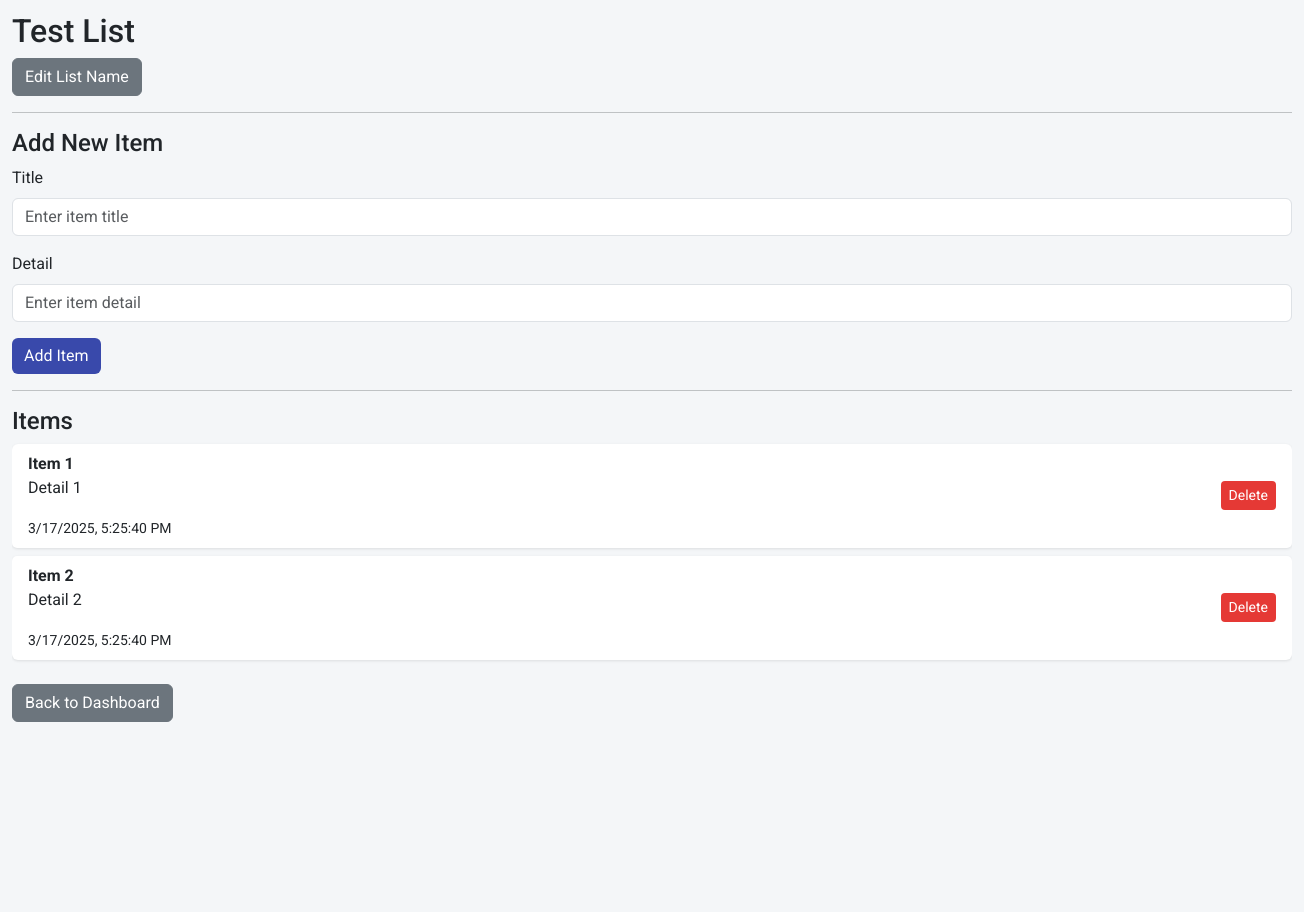
it: TodoListDetail Component › adds a new item
Expected: the heading "Test List" is shown, [12,12,135,50]
// Input new item details
Type "New Item" into the field with placeholder "Enter item title".
click(652, 217); type("New Item")  # box [12,198,1292,236]
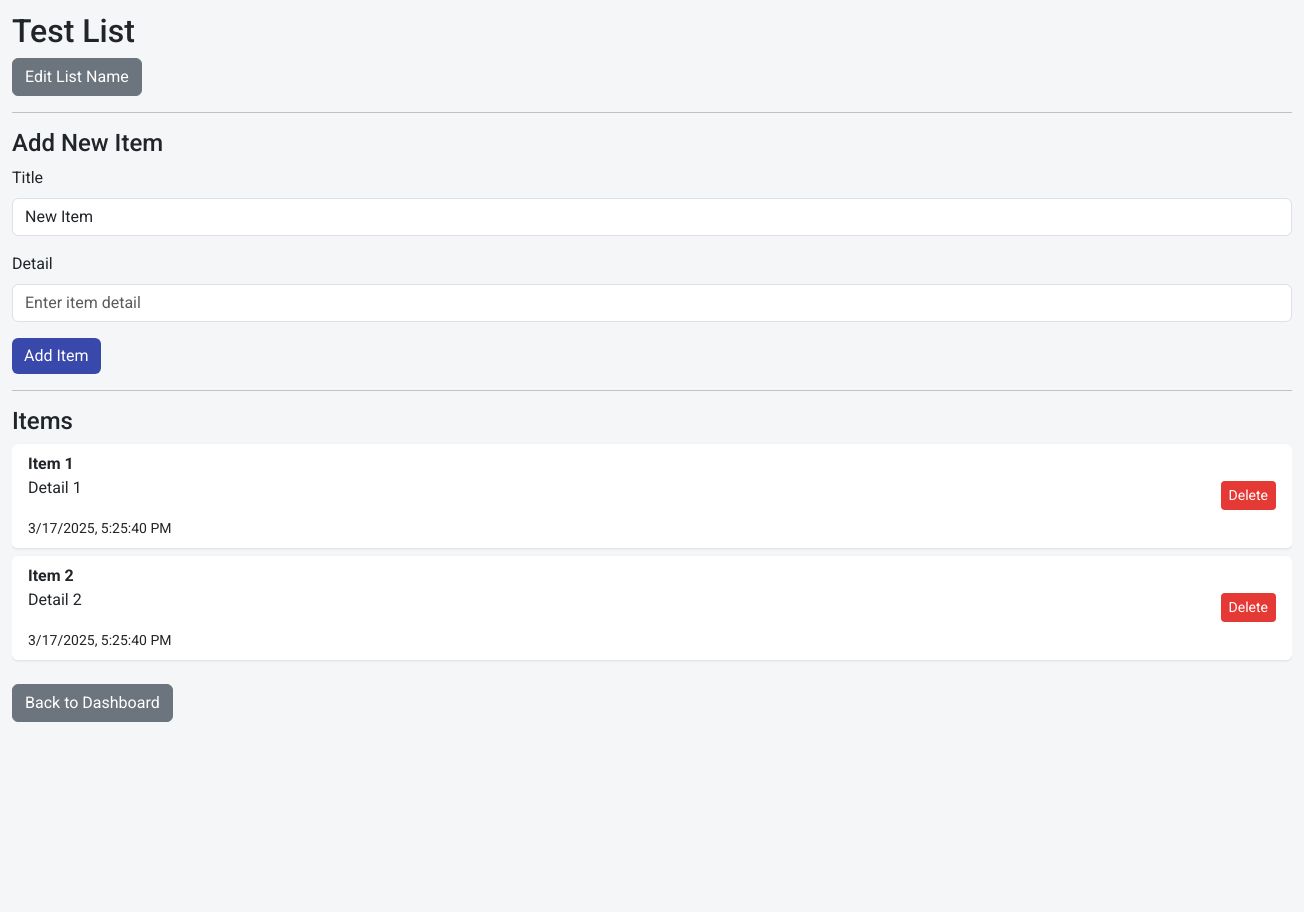
Type "New Detail" into the field with placeholder "Enter item detail".
click(652, 303); type("New Detail")  # box [12,284,1292,322]
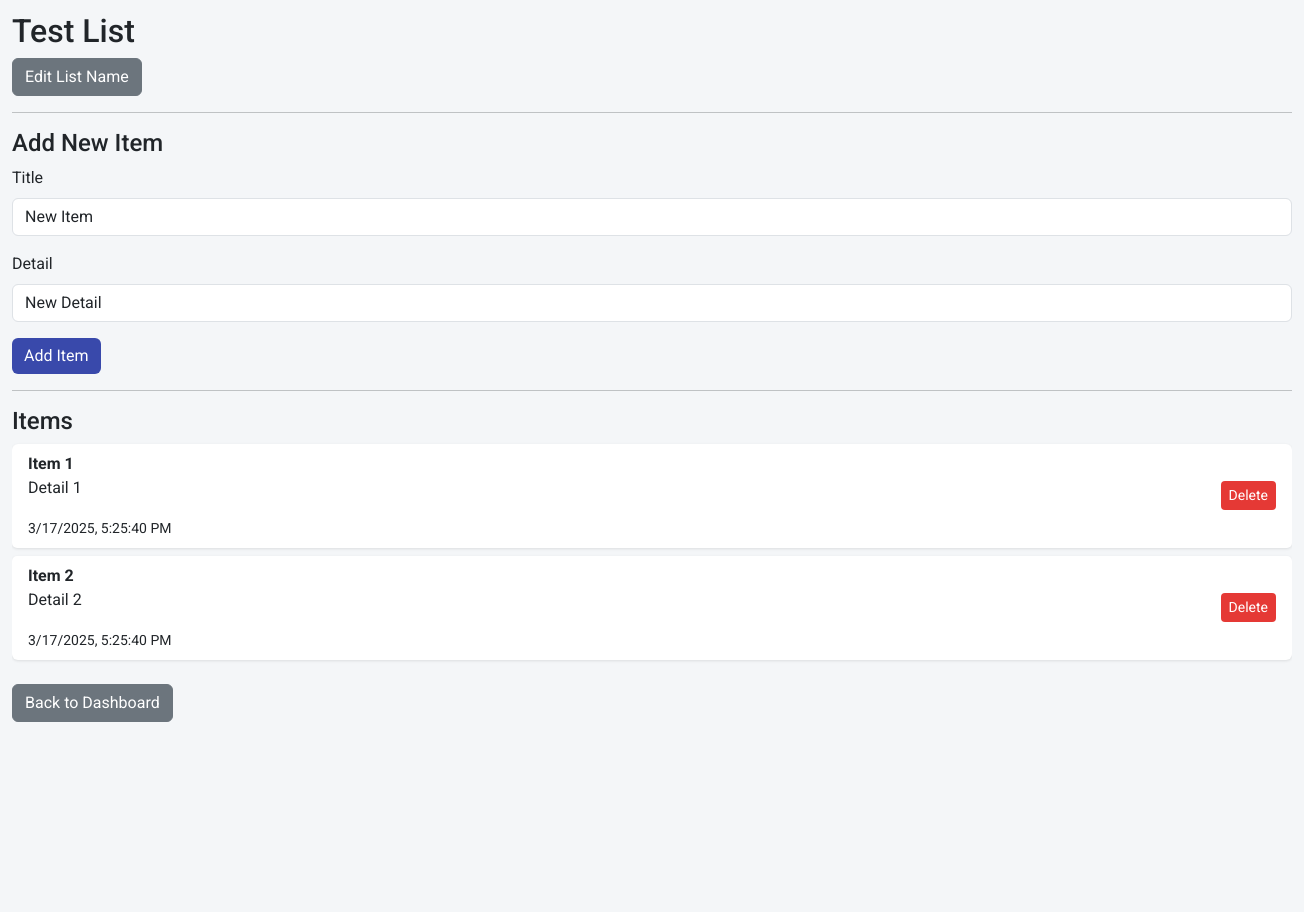
// click "Add Item" button
Click the button "Add Item".
click(56, 356)  # box [12,338,101,374]
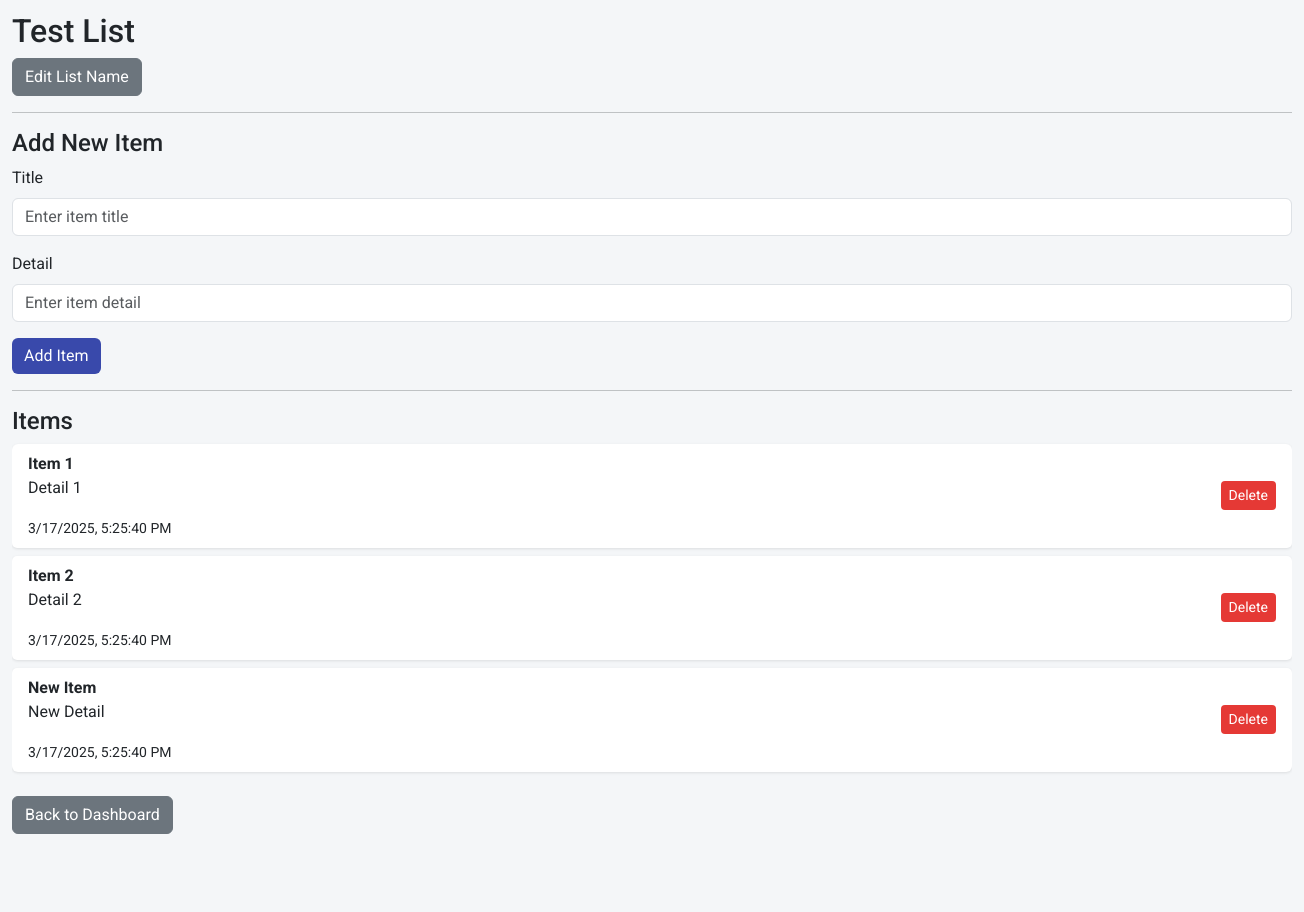
Expected: the text "New Item" is shown, [28,678,96,697]
